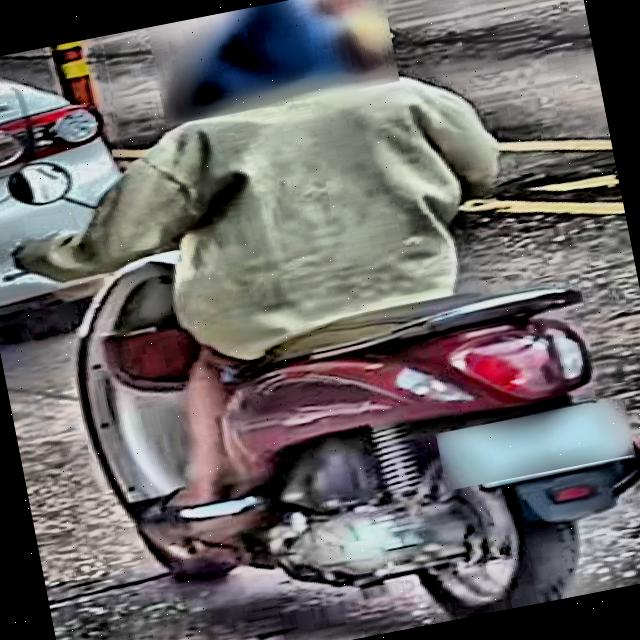motorcycle: (5, 59, 640, 640)
